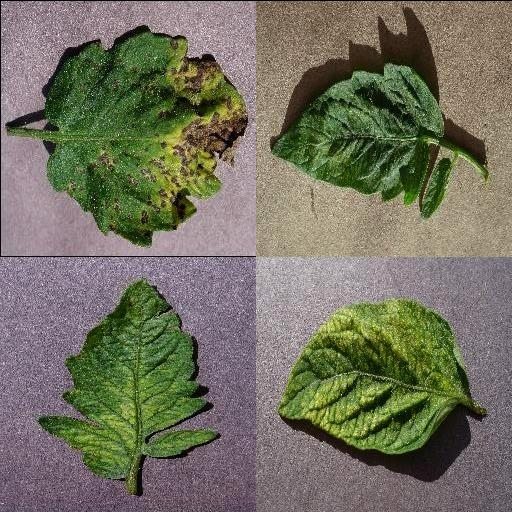Mosaic Virus: (38, 280, 220, 481)
Septoria: (42, 29, 248, 247)
Spider Mites: (277, 299, 465, 453), (269, 64, 445, 204)
